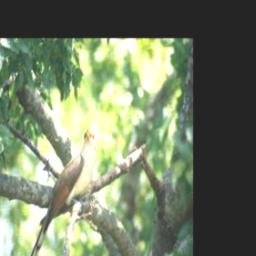Cuckoo: (24, 125, 98, 256)
